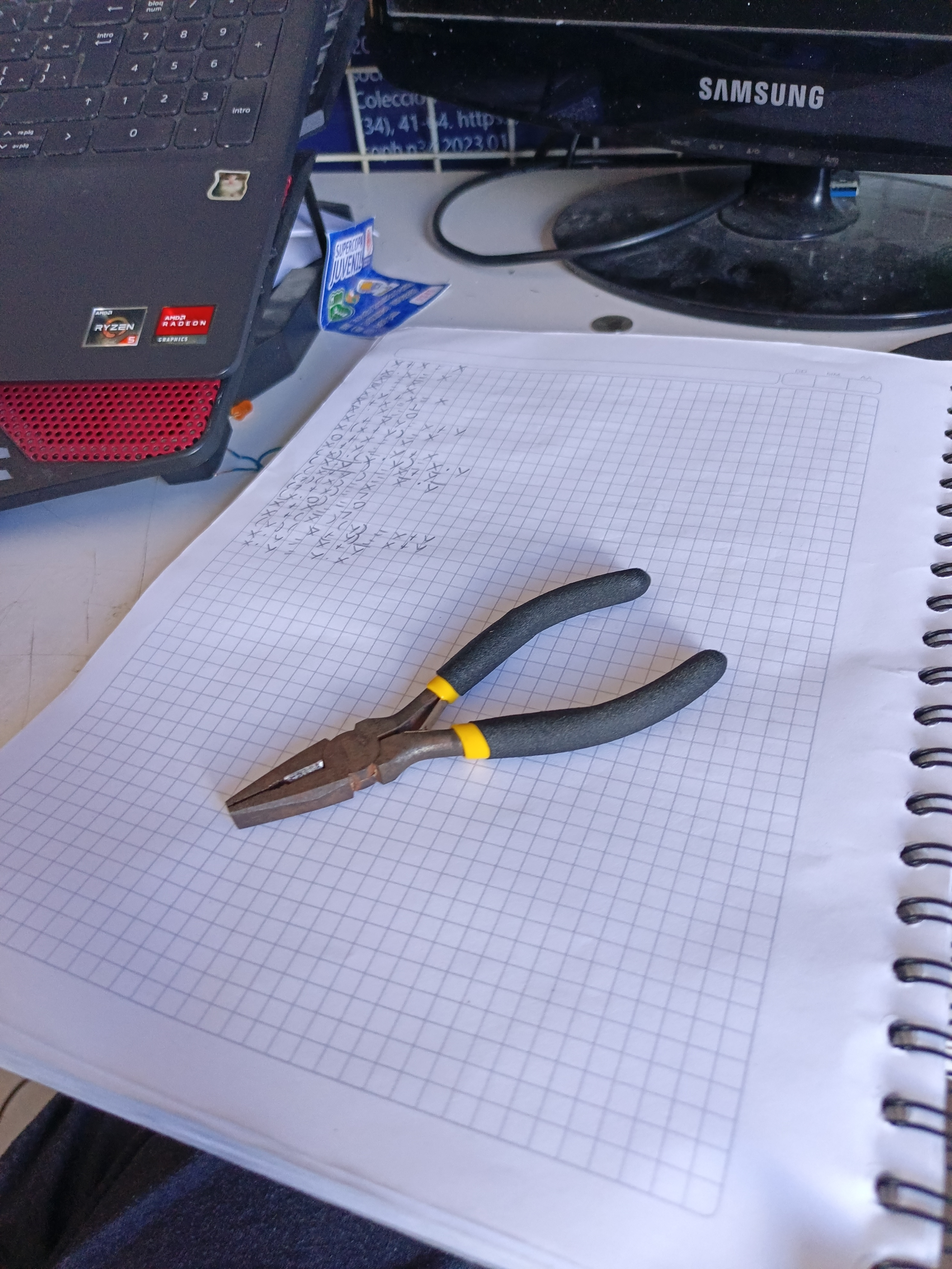Pinzas: (227, 568, 726, 828)
